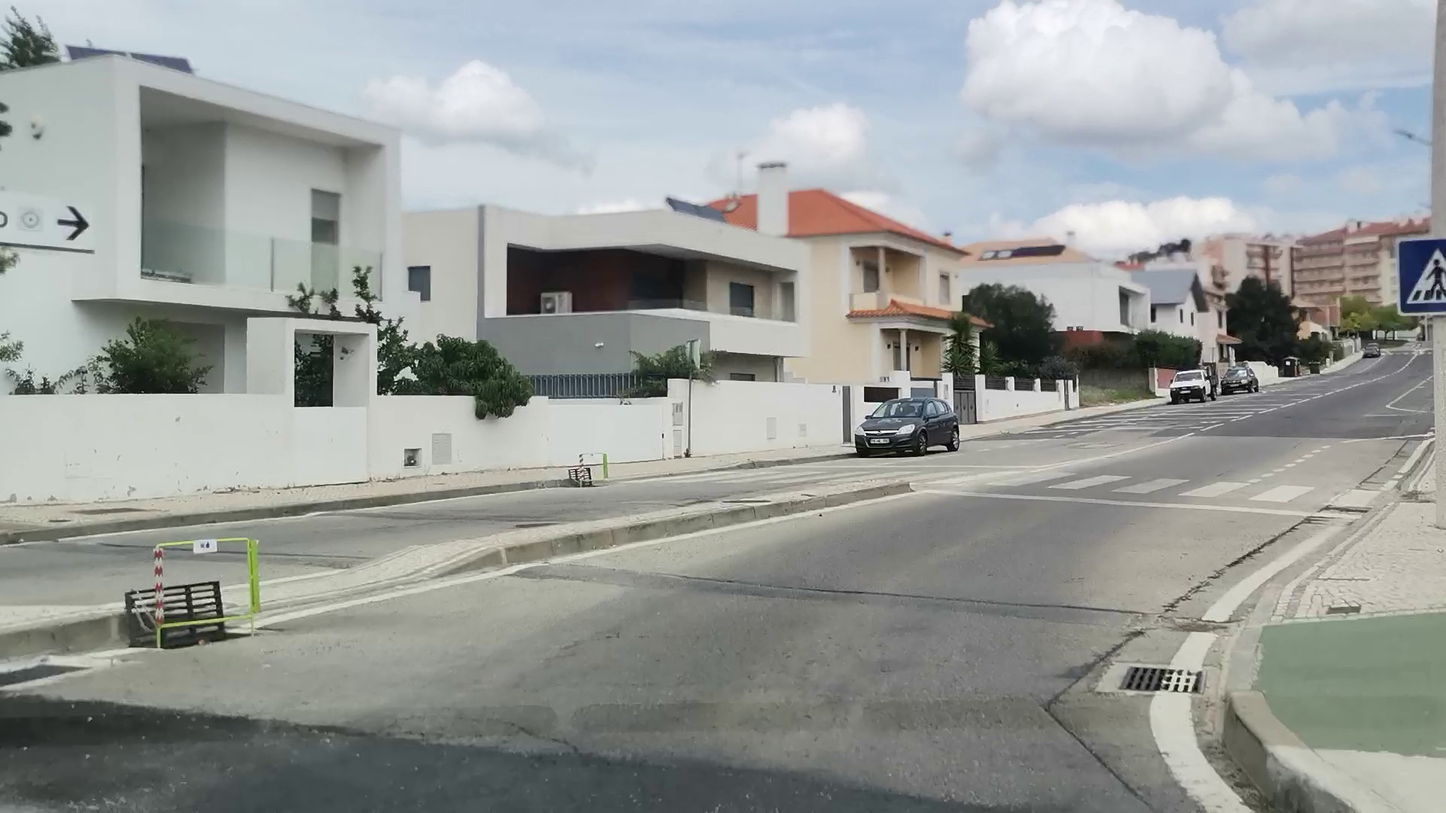Stairs: (988, 473, 1334, 506)
